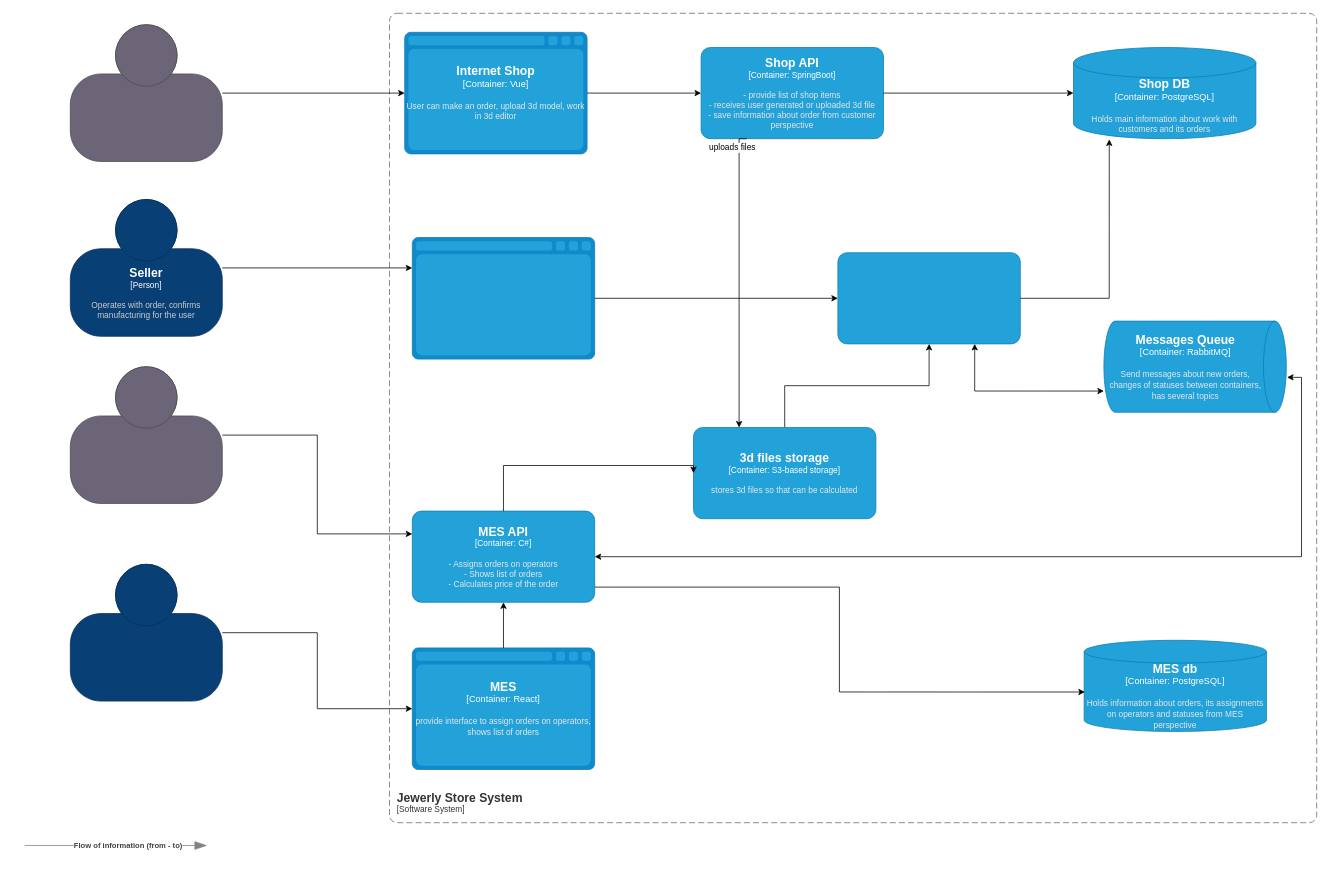
Some shapes in this 1330 by 871 pixel diagram are drawn without their labels. The shapes that lost their labels are listed below. From the top down, each one's centre as x and y in pixels, then its label:
pixel 146 93: Customer [Person] Description of external person.
pixel 503 298: CRM [Container: Vue] Description of web browser container role/responsibility.
pixel 928 298: CRM API [Container: SpringBoot] Description of container role/responsibility.
pixel 146 435: API user [Person] Description of external person.
pixel 146 632: Operator [Person] Takes order in work, manufactures jewerly
